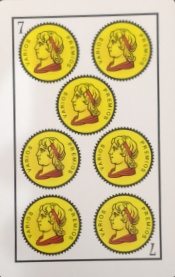7o: (10, 11, 160, 38)
